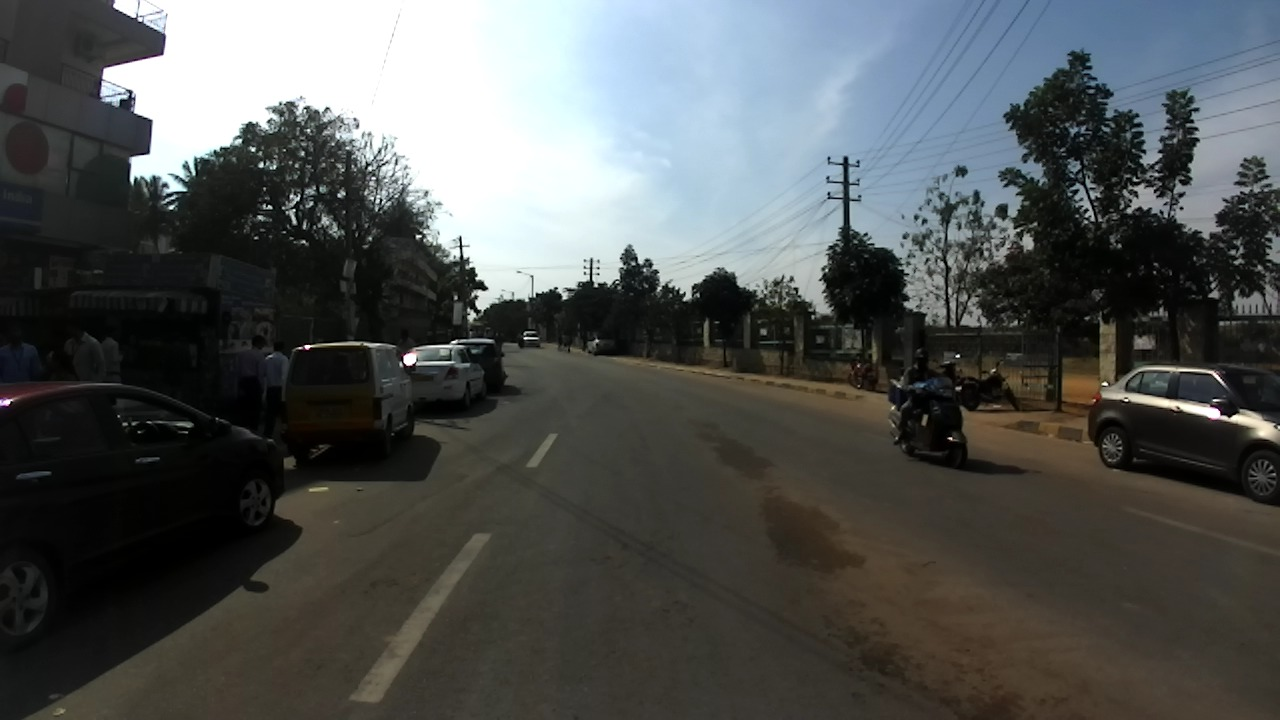car: (1, 382, 283, 650), (1085, 363, 1280, 502), (282, 341, 417, 463), (401, 343, 489, 411), (449, 338, 507, 394), (585, 333, 618, 357), (522, 330, 541, 348)
motorcycle: (888, 378, 969, 470), (955, 358, 1020, 413), (925, 353, 963, 389), (846, 357, 880, 393), (495, 339, 504, 351), (518, 338, 525, 349)
person: (261, 342, 291, 443), (238, 334, 267, 432), (62, 320, 105, 384), (0, 326, 42, 383), (97, 324, 124, 386), (43, 352, 78, 384), (396, 329, 417, 354), (425, 329, 434, 343), (565, 336, 572, 353), (557, 334, 562, 351)
rider: (894, 344, 944, 447), (493, 331, 504, 342), (469, 328, 476, 340), (517, 332, 524, 340)
vehicle fallback: (468, 322, 485, 340), (483, 328, 495, 340)
